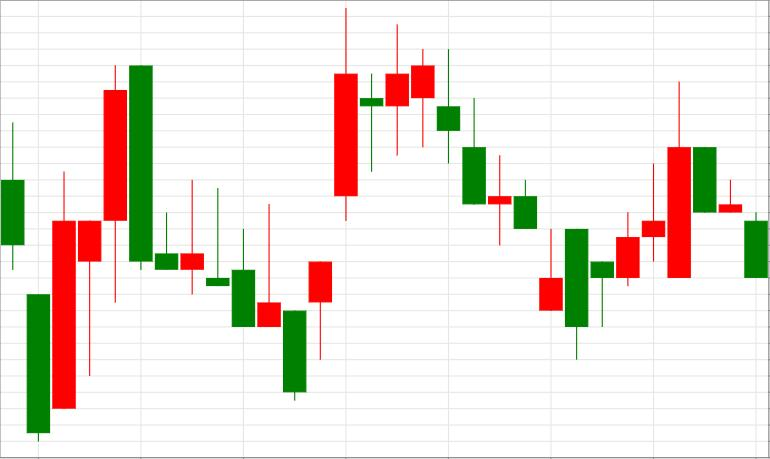inverse_hammer_rise: (129, 66, 281, 327), (437, 49, 563, 311)
